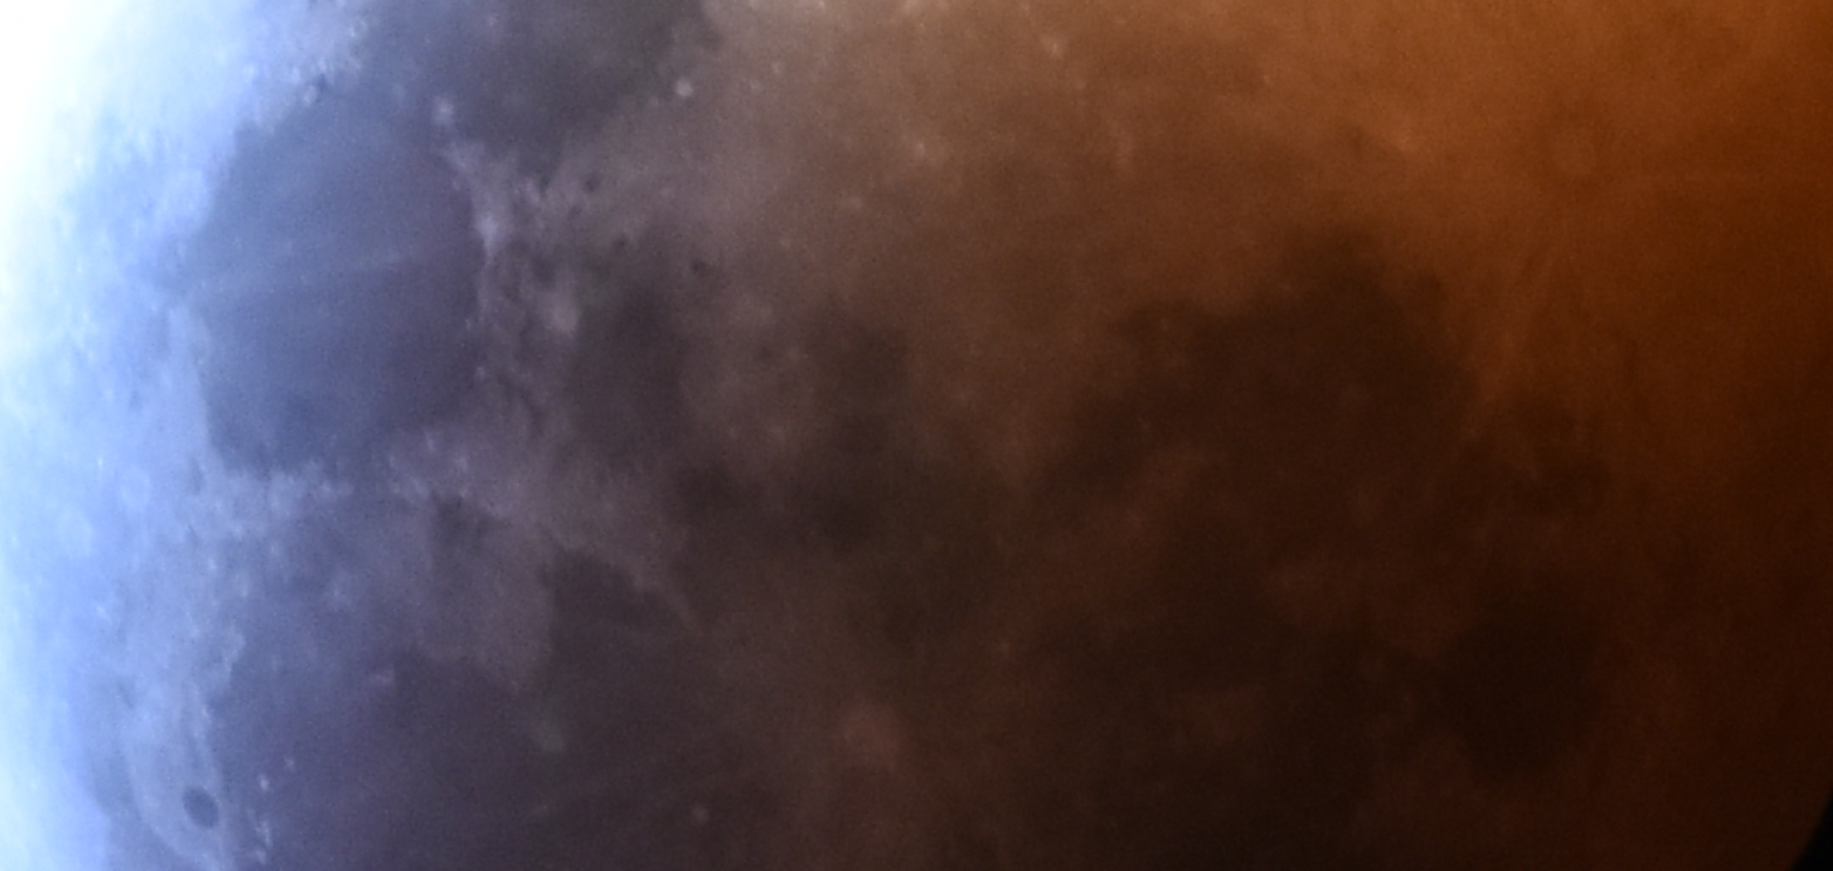crater: (103, 63, 518, 514), (1450, 37, 1748, 314), (739, 593, 988, 843), (894, 106, 976, 207), (518, 269, 615, 353), (158, 770, 235, 853), (102, 450, 166, 521), (664, 781, 731, 842), (331, 6, 397, 53), (424, 77, 476, 131), (655, 69, 711, 118), (936, 371, 984, 419), (244, 765, 288, 806)
